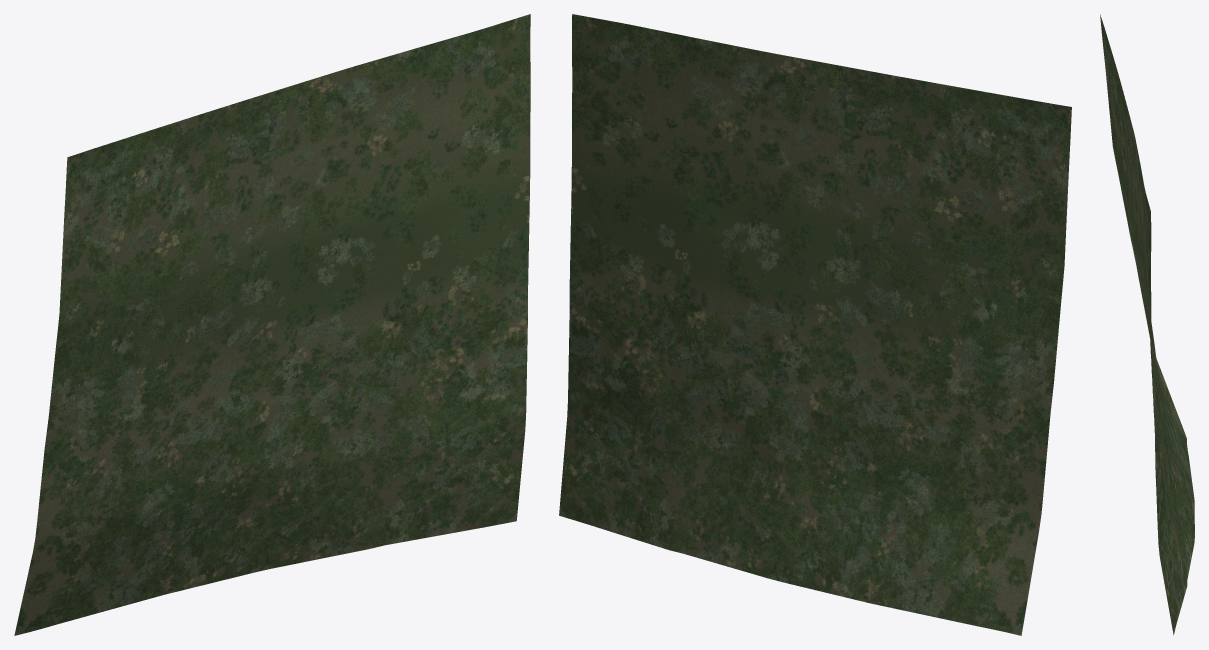
File: terrain_near_08_03.obj
3 renders of one model, left to right at view 1: azimuth 30°, elevation 25°; view 2: azimuth 150°, elevation 25°; view 3: azimuth 270°, elevation 25°, orthographic. The views are drawn at different scales.
Parts seen in each view (by area): view 1: terrain_near_08_03; view 2: terrain_near_08_03; view 3: terrain_near_08_03.
Part boxes in pixels (left/top/right/bottom): terrain_near_08_03: left=14, top=14, right=530, bottom=635; terrain_near_08_03: left=559, top=14, right=1071, bottom=635; terrain_near_08_03: left=1100, top=14, right=1194, bottom=634.
Size of the model in its own units: 64 by 64 by 12.99.
1 material, 1 textured.
